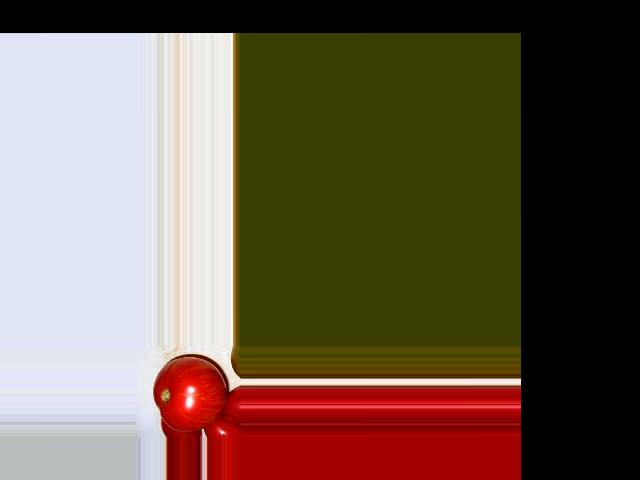tomato: (152, 356, 228, 432)
